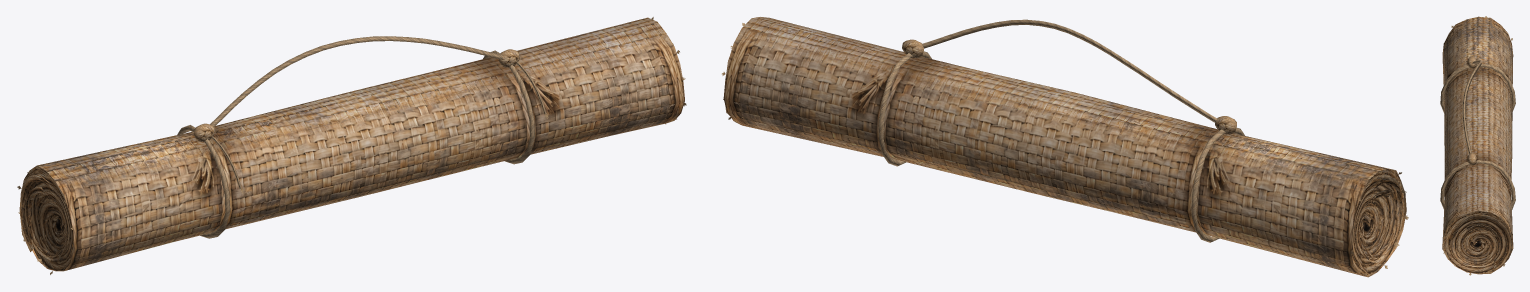
The model's file is Model_StrawSleepingMatRolled.glb.
3 renders of one model, left to right at view 1: azimuth 30°, elevation 25°; view 2: azimuth 150°, elevation 25°; view 3: azimuth 270°, elevation 25°, orthographic. The views are drawn at different scales.
Parts seen in each view (by area): view 1: Model_StrawSleepingMatRolled; view 2: Model_StrawSleepingMatRolled; view 3: Model_StrawSleepingMatRolled.
Boxes of the visible parts, x1=… form: Model_StrawSleepingMatRolled: x1=17, y1=17, x2=686, y2=274; Model_StrawSleepingMatRolled: x1=722, y1=17, x2=1408, y2=277; Model_StrawSleepingMatRolled: x1=1440, y1=16, x2=1515, y2=275.
Size of the model in its own units: 0.918 by 0.231 by 0.1492.
1 material, 1 textured.
